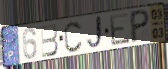6: (22, 26, 38, 60)
B: (40, 23, 60, 59)
C: (64, 20, 84, 53)
E: (108, 11, 132, 47)
J: (85, 14, 104, 52)
P: (130, 8, 151, 45)
